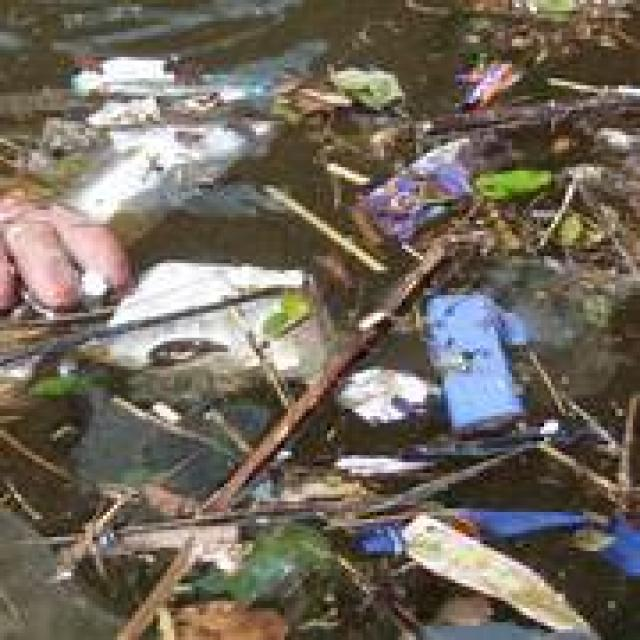litter: (103, 236, 452, 640), (357, 512, 605, 640), (11, 284, 291, 360), (108, 257, 316, 357), (68, 123, 266, 225), (0, 179, 131, 314), (429, 295, 524, 424), (271, 180, 385, 270), (88, 492, 343, 530), (183, 525, 325, 591), (423, 93, 623, 127), (81, 56, 166, 96), (613, 400, 637, 521), (99, 101, 160, 115)
